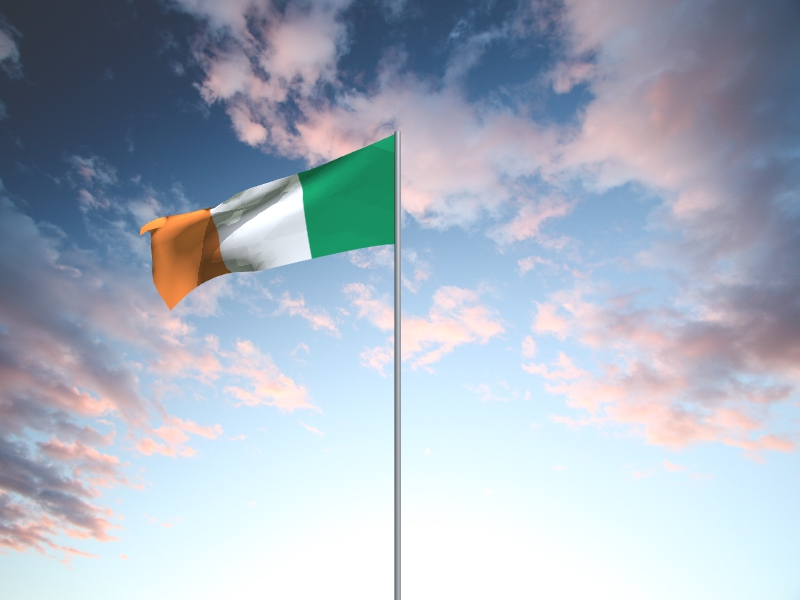ie: (140, 135, 395, 312)
